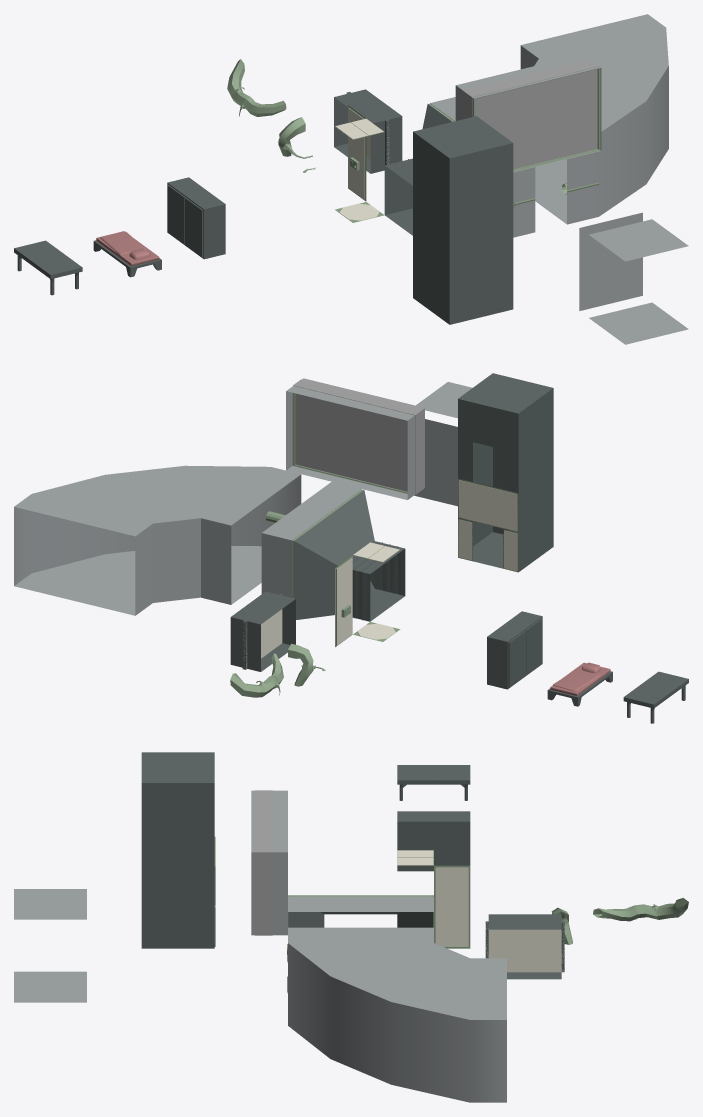
The model's file is LabWithLights.fbx.
The picture shows the model from 3 angles, top to bottom: view 1: azimuth 30°, elevation 25°; view 2: azimuth 150°, elevation 25°; view 3: azimuth 270°, elevation 25°; orthographic projection. The views are drawn at different scales.
Parts seen in each view (by area): view 1: Elevator_Shaft, Hall_Turn, Growery_Window, Growery_Wall, Doorway, Growery_Floor, Growery_Celling, Cabinet, Growery_Hole, Hall_Little, Hall_Straight, Table_low (+9 smaller); view 2: Hall_Turn, Elevator_Shaft, Growery_Window, Doorway_Opening, Hall_Straight, Doorway, Elevator_Door, Growery_Hole, Hall_Little, Growery_Wall, Cabinet, Table_low (+11 smaller); view 3: Hall_Turn, Elevator_Shaft, Cabinet, Doorway_Door, Growery_Hole, Growery_Window, Lab_Wall, Hall_Straight, Growery_Floor, Growery_Celling, Doorway, Table_low (+4 smaller).
Boxes of the visible parts, x1,y1,x2,y2 form: Elevator_Shaft: (413,116,513,324); Hall_Turn: (520,14,668,224); Growery_Window: (463,59,600,169); Growery_Wall: (579,212,642,310); Doorway: (334,89,402,173); Growery_Floor: (589,302,688,344); Growery_Celling: (589,219,688,261); Cabinet: (167,177,225,259); Growery_Hole: (455,54,601,172); Hall_Little: (384,158,412,235); Hall_Straight: (430,97,535,237); Table_low: (14,240,82,279); Hall_Turn: (14,465,301,615); Elevator_Shaft: (458,373,553,571); Growery_Window: (293,379,423,494); Doorway_Opening: (294,490,374,619); Hall_Straight: (261,482,361,597); Doorway: (230,591,295,671); Elevator_Door: (458,480,517,571); Growery_Hole: (286,378,424,499); Hall_Little: (352,541,405,621); Growery_Wall: (414,419,457,506); Cabinet: (487,611,542,689); Table_low: (623,671,688,708); Hall_Turn: (288,927,506,1102); Elevator_Shaft: (141,752,214,948); Cabinet: (397,811,470,871); Doorway_Door: (485,922,564,972); Growery_Hole: (251,790,287,935); Growery_Window: (254,790,272,935); Lab_Wall: (435,867,468,946); Hall_Straight: (288,896,433,911); Growery_Floor: (14,971,86,1002); Growery_Celling: (14,889,86,919); Doorway: (485,914,564,979); Table_low: (397,765,470,784).
Bounding box in the file's own units: 4100 × 1002 × 3697.
